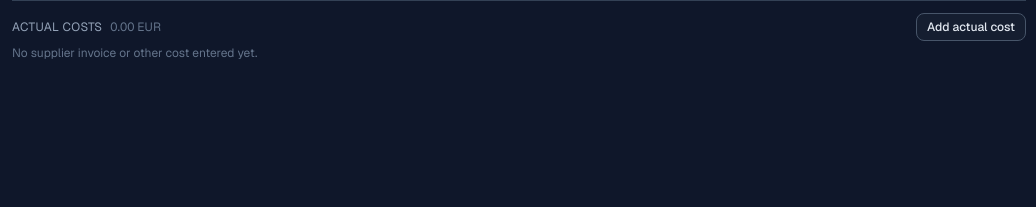
Test case: ActualCostsPanel currency marks › sends a marked amount as typed and shows the backend refusal inline
Click the button with test id "actual-cost-open": (971, 27) [916,13,1026,41]
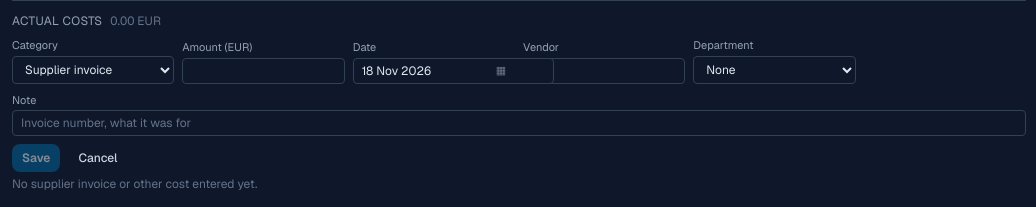
In the field labelled "Amount": (263, 70) [182,58,345,84], type "$1,250"
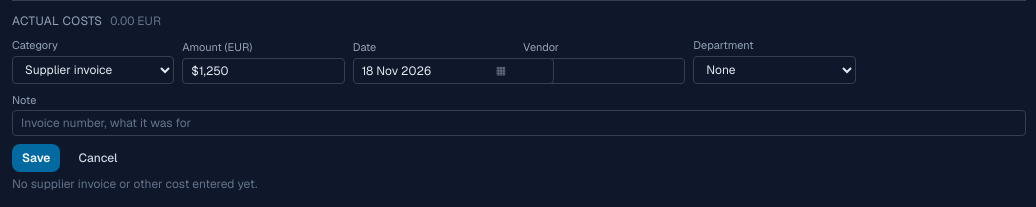
Click the button with test id "actual-cost-save": (36, 158) [12,144,60,172]
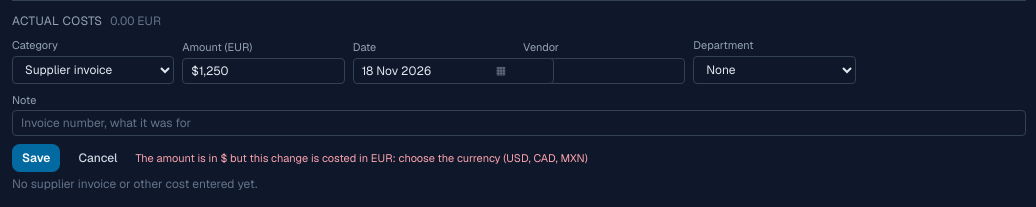
Check: the message shows "The amount is in $ but this change is costed in EUR", box [136,151,588,165]
Replace the text in the field labelled "Amount" with "1,250": (263, 70) [182,58,345,84]
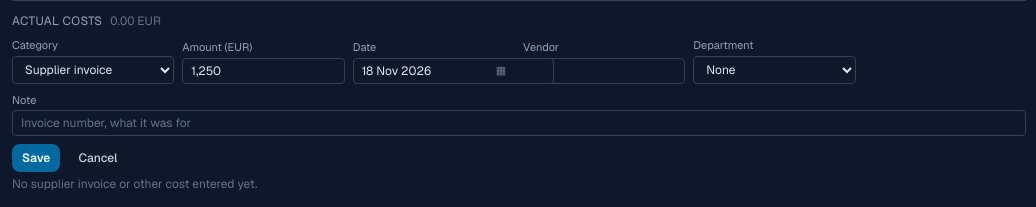
Check: the message is gone
